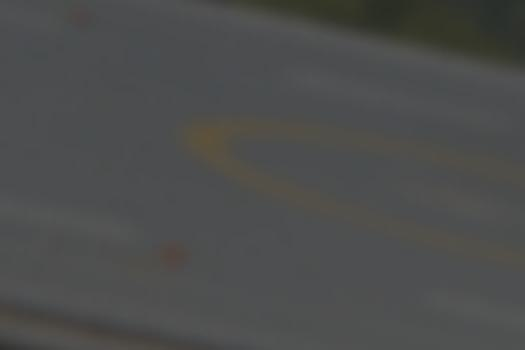Apron: (234, 112, 515, 250)
